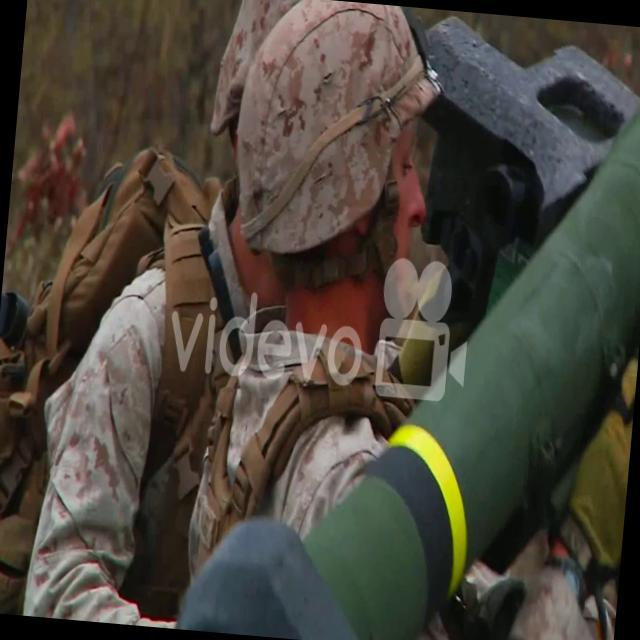rocket: (178, 68, 640, 640)
